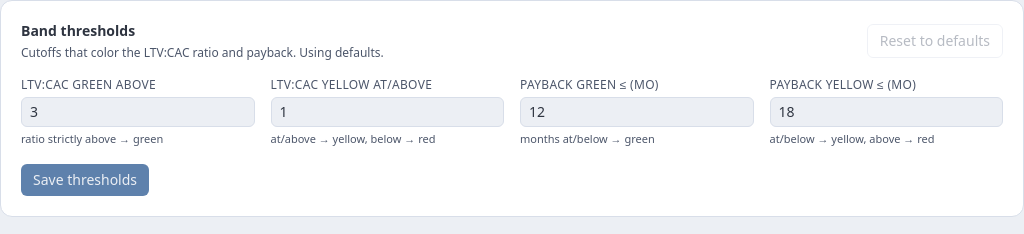
Scenario: ThresholdSettings save reporting (CTO-393) › still confirms a real save
The width and height of the screenshot is (1024, 234).
Click the button "Save thresholds": (85, 180) [21,164,149,196]
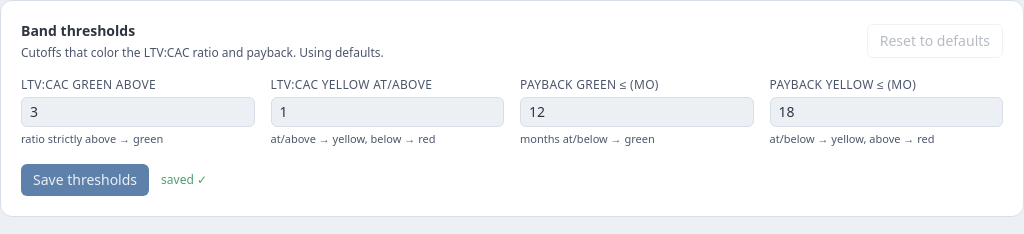
Check: the text "saved ✓" is shown, box [161,172,207,188]
